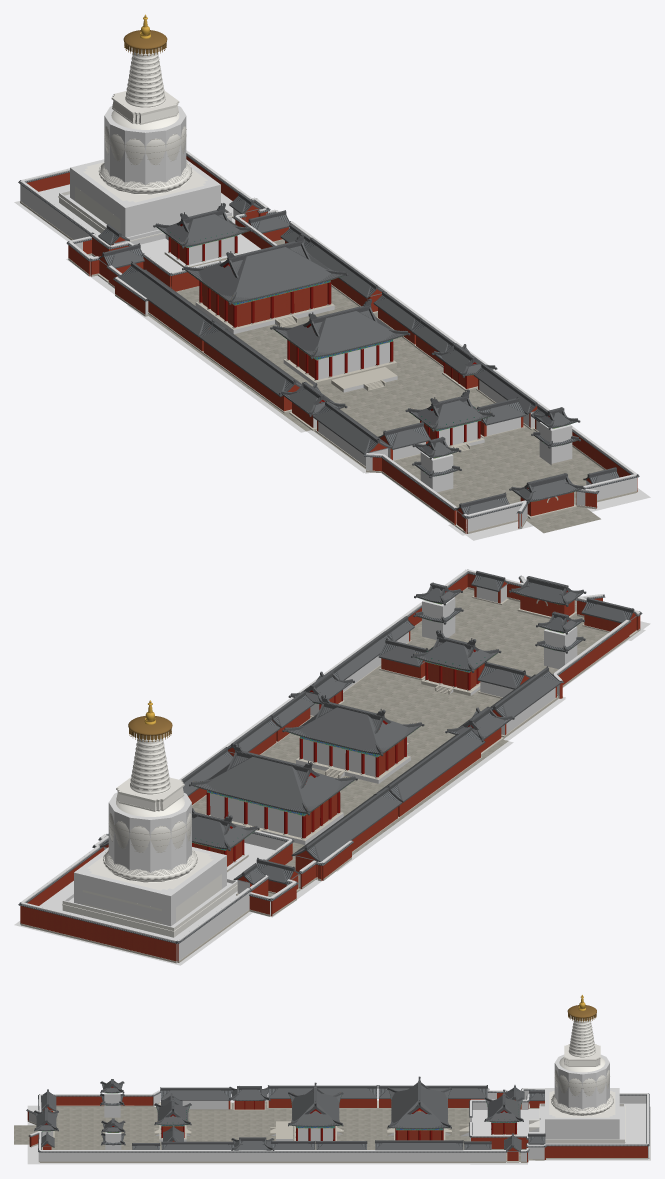
File: miaoyingsi.glb
3 renders of one model, top to bottom at view 1: azimuth 30°, elevation 25°; view 2: azimuth 150°, elevation 25°; view 3: azimuth 270°, elevation 25°, orthographic. The views are drawn at different scales.
Parts seen in each view (by area): view 1: Massing, Temple, COL_b41, COL_h0, COL_h18, COL_b18, COL_b5, FOOTPRINT_front, COL_h10, COL_b6, FOOTPRINT_middle, COL_h12 (+2 smaller); view 2: Massing, Temple, COL_b41, COL_h0, COL_b20, COL_h18, COL_b18, COL_b5, COL_b6, COL_b30, COL_h10, COL_b29 (+1 smaller); view 3: Massing, Temple, COL_h10, COL_b41, COL_h0, COL_b30, COL_b29, FOOTPRINT_front, FOOTPRINT_middle, COL_b13, COL_b18, COL_b6 (+3 smaller).
Boxes of the visible parts, x1,y1,x2,y2 form: Massing: (58,14,637,533); Temple: (18,15,639,533); COL_b41: (70,159,220,237); COL_h0: (104,106,186,185); COL_h18: (20,181,93,239); COL_b18: (317,342,389,379); COL_b5: (539,422,572,465); FOOTPRINT_front: (381,473,650,540); COL_h10: (290,221,637,474); COL_b6: (420,451,453,492); FOOTPRINT_middle: (127,305,310,432); COL_h12: (467,500,525,531); Massing: (21,577,640,961); Temple: (18,569,642,963); COL_b41: (74,847,226,926); COL_h0: (108,792,191,872); COL_b20: (210,793,303,837); COL_h18: (177,888,250,960); COL_b18: (303,739,376,776); COL_b5: (422,597,455,639); COL_b6: (544,626,577,669); COL_b30: (39,881,237,939); COL_h10: (179,569,467,779); COL_b29: (227,843,274,880); Massing: (14,996,647,1162); Temple: (26,995,649,1162); COL_h10: (40,1150,505,1161); COL_b41: (545,1088,619,1139); COL_h0: (554,1054,609,1110); COL_b30: (528,1103,646,1143); COL_b29: (472,1109,527,1135); FOOTPRINT_front: (27,1105,157,1164); FOOTPRINT_middle: (235,1099,470,1164); COL_b13: (182,1100,228,1109); COL_b18: (298,1128,333,1141); COL_b6: (104,1092,120,1117).
Bounding box in the file's own units: 51.21 × 50.9 × 212.
17 materials, 6 textured.
